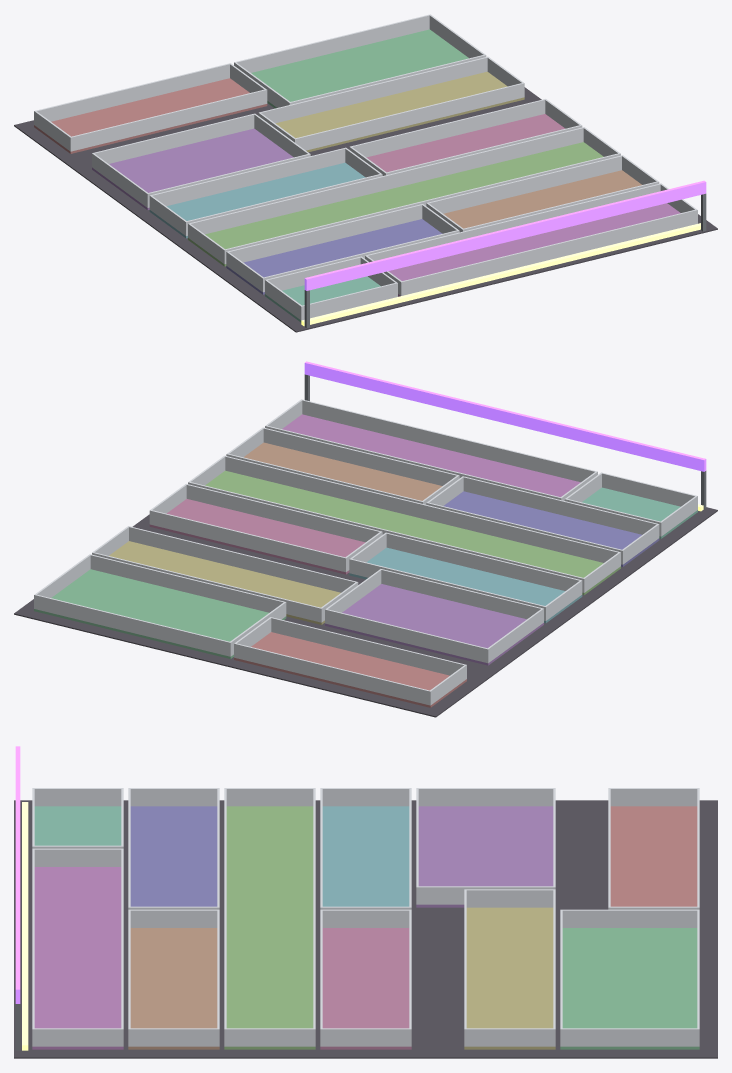
Rendered from hall-bridge-inspect.glb.
3 views of the same model, one above another, from view 1: azimuth 30°, elevation 25°; view 2: azimuth 150°, elevation 25°; view 3: azimuth 270°, elevation 25° (orthographic). The views are drawn at different scales.
Parts seen in each view (by area): view 1: Bridge Inspection Crews; view 2: Bridge Inspection Crews; view 3: Bridge Inspection Crews.
Boxes of the visible parts, x1=… form: Bridge Inspection Crews: x1=14, y1=14, x2=717, y2=332; Bridge Inspection Crews: x1=14, y1=361, x2=717, y2=717; Bridge Inspection Crews: x1=14, y1=746, x2=717, y2=1058.
Bounding box in the file's own units: 38 × 4.3 × 44.
